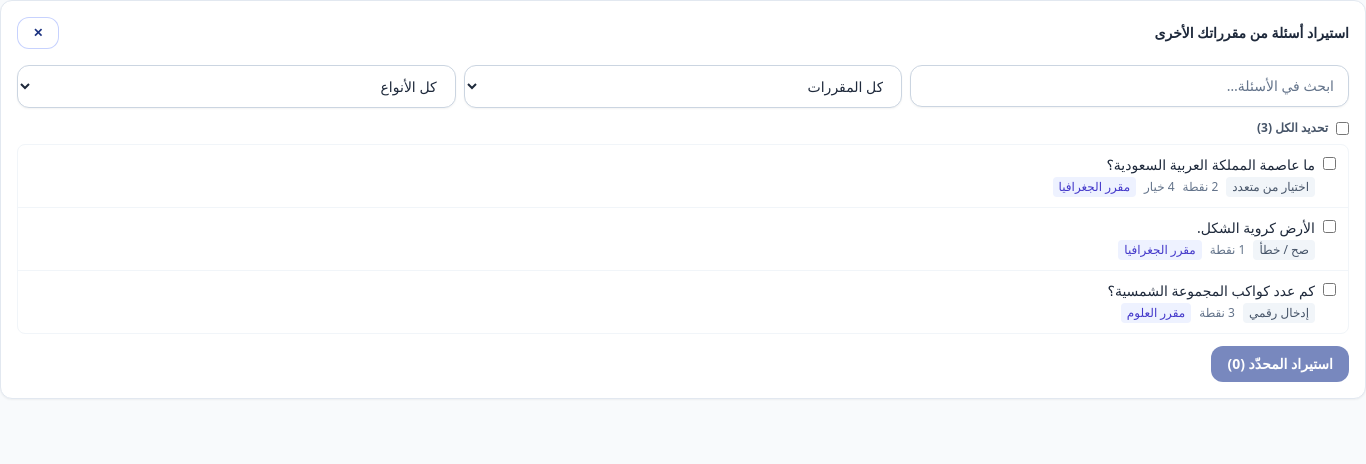
Test: QuestionImportPicker — E5 › يُظهر SuccessMsg (role=status) بعد نجاح الاستيراد
Expected: the text "ما عاصمة المملكة العربية السعودية؟" is shown, x1=1106 y1=155 x2=1315 y2=174
Click the checkbox labelled "ما عاصمة المملكة".
click(1330, 164)  # box x1=1323 y1=157 x2=1336 y2=170
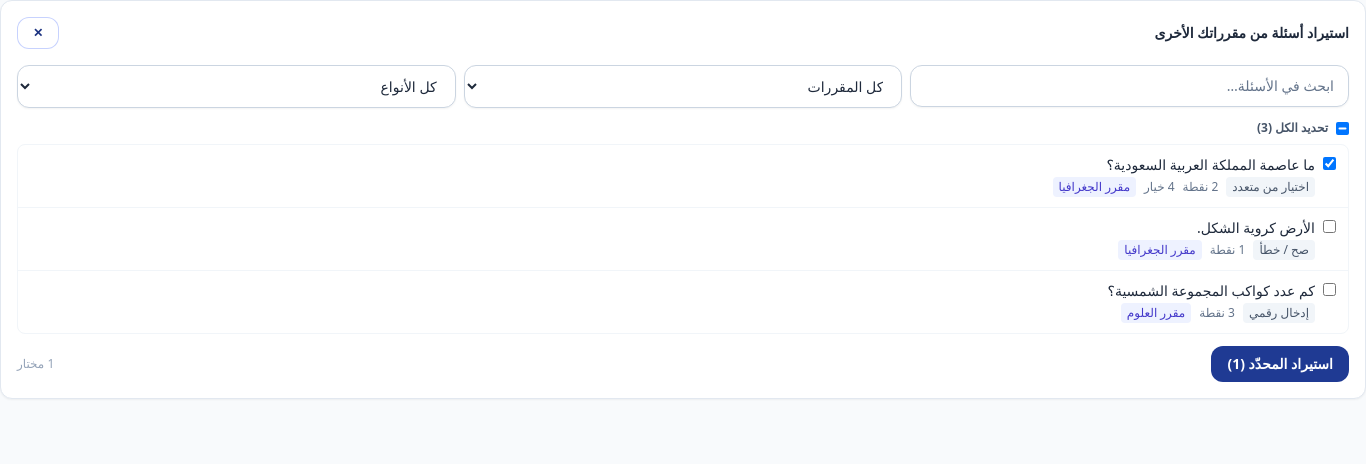
Click the button "استيراد المحدّد (1)".
click(1280, 364)  # box x1=1211 y1=346 x2=1349 y2=382
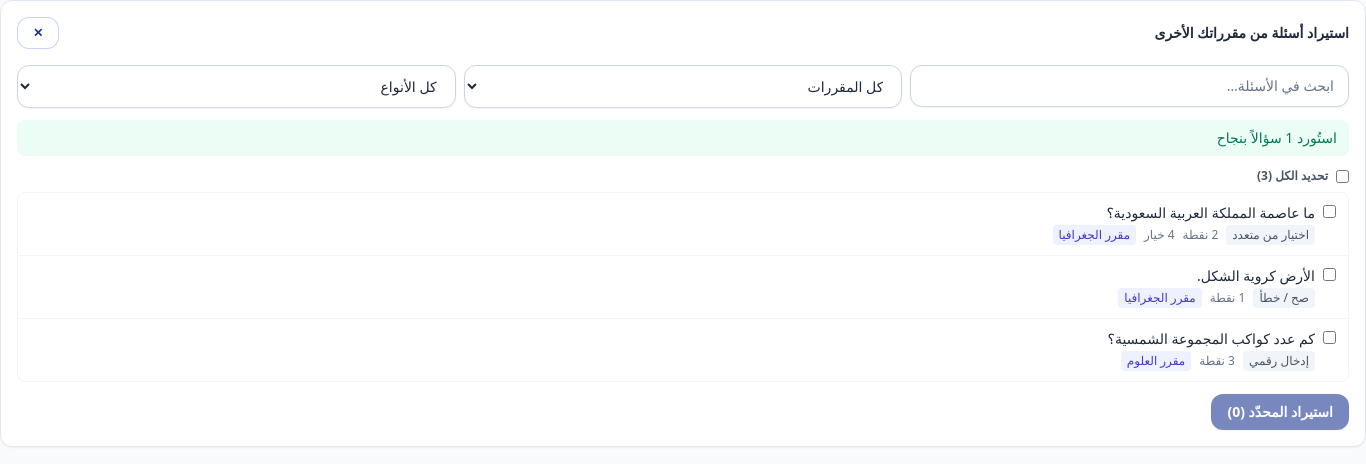
Now the message "استُورد 1 سؤالاً بنجاح" is shown, box x1=17 y1=120 x2=1349 y2=156
Now the message shows "استُورد", box x1=1217 y1=128 x2=1337 y2=147
